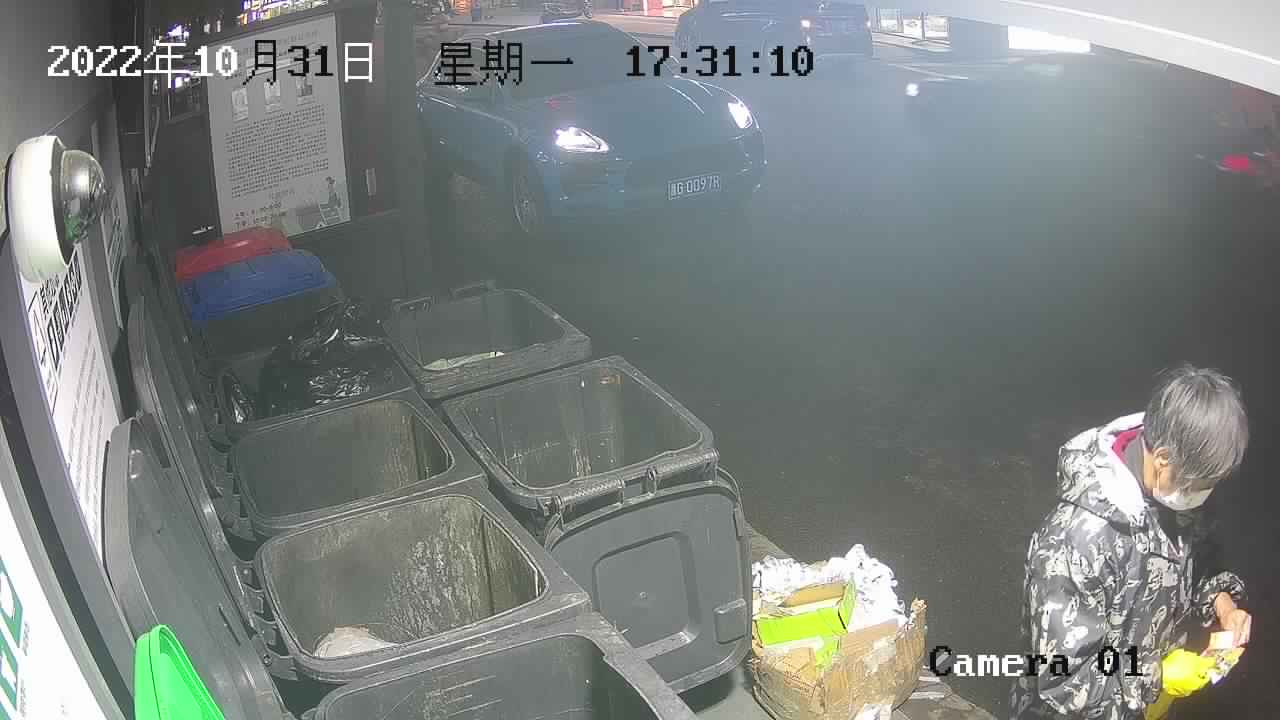person: (1009, 362, 1254, 720)
